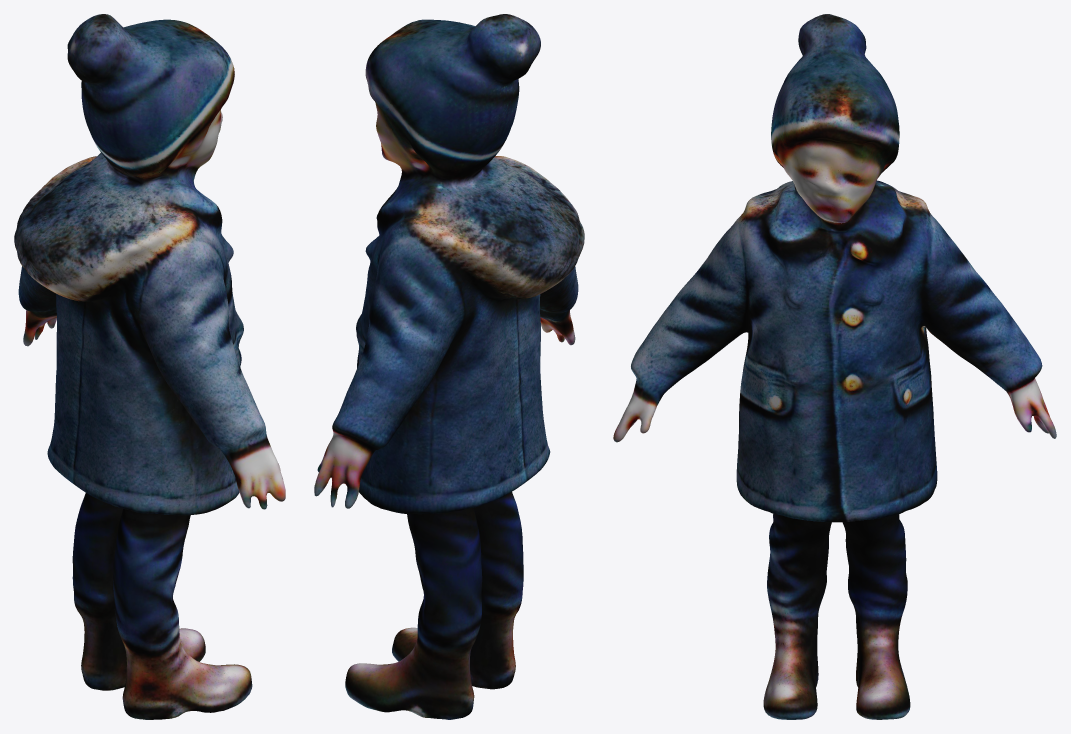
Rendered from 9293ff95d82a_Soviet_little_boy_i.fbx.
3 views of the same model, side by side, from view 1: azimuth 30°, elevation 25°; view 2: azimuth 150°, elevation 25°; view 3: azimuth 270°, elevation 25° (orthographic). The views are drawn at different scales.
Parts seen in each view (by area): view 1: high_poly; view 2: high_poly; view 3: high_poly.
Boxes of the visible parts, bbox=[...] form: high_poly: bbox=[14, 14, 285, 719]; high_poly: bbox=[314, 14, 584, 719]; high_poly: bbox=[613, 14, 1056, 719].
Size of the model in its own units: 31.48 by 100 by 61.47.
